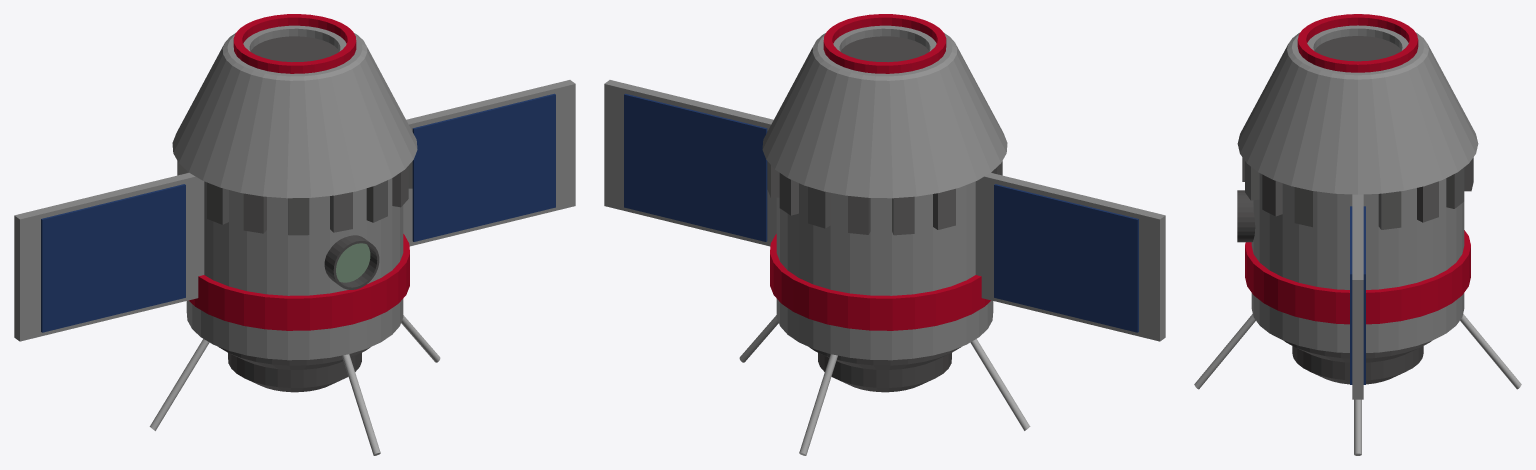
The model's file is capsulecoisado.fbx.
3 views of the same model, side by side, from view 1: azimuth 30°, elevation 25°; view 2: azimuth 150°, elevation 25°; view 3: azimuth 270°, elevation 25° (orthographic). The views are drawn at different scales.
Parts seen in each view (by area): view 1: Cube, Cylinder, Cylinder.001, Cylinder.002, Cylinder.003, Cylinder.006; view 2: Cube, Cylinder, Cylinder.001, Cylinder.005, Cylinder.006; view 3: Cylinder, Cylinder.001, Cube, Cylinder.002, Cylinder.003, Cylinder.005, Cylinder.004.
Boxes of the visible parts, x1,y1,x2,y2 form: Cube: (14, 80, 575, 341); Cylinder: (177, 161, 412, 392); Cylinder.001: (172, 14, 417, 198); Cylinder.002: (324, 235, 379, 289); Cylinder.003: (342, 354, 380, 455); Cylinder.006: (149, 339, 209, 430); Cube: (604, 80, 1165, 341); Cylinder: (767, 161, 1002, 392); Cylinder.001: (762, 14, 1007, 198); Cylinder.005: (799, 354, 837, 455); Cylinder.006: (970, 339, 1030, 430); Cylinder: (1242, 157, 1473, 384); Cylinder.001: (1237, 14, 1478, 194); Cube: (1350, 14, 1365, 399); Cylinder.002: (1237, 190, 1255, 242); Cylinder.003: (1194, 314, 1255, 389); Cylinder.005: (1460, 314, 1521, 389); Cylinder.004: (1354, 399, 1361, 455).
Bounding box in the file's own units: 712 × 436 × 370.
